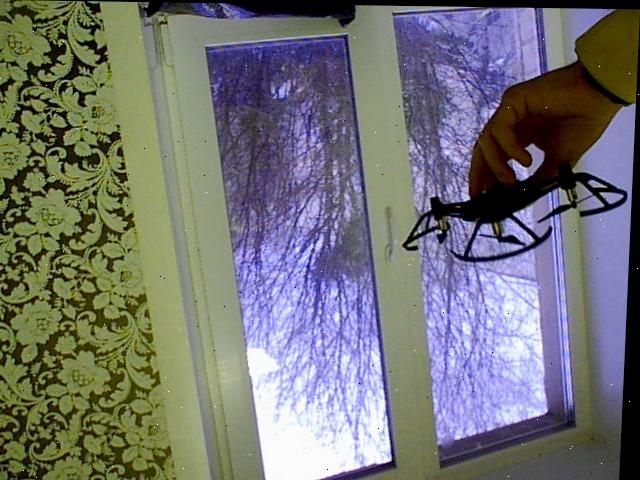drone: (386, 116, 635, 268)
